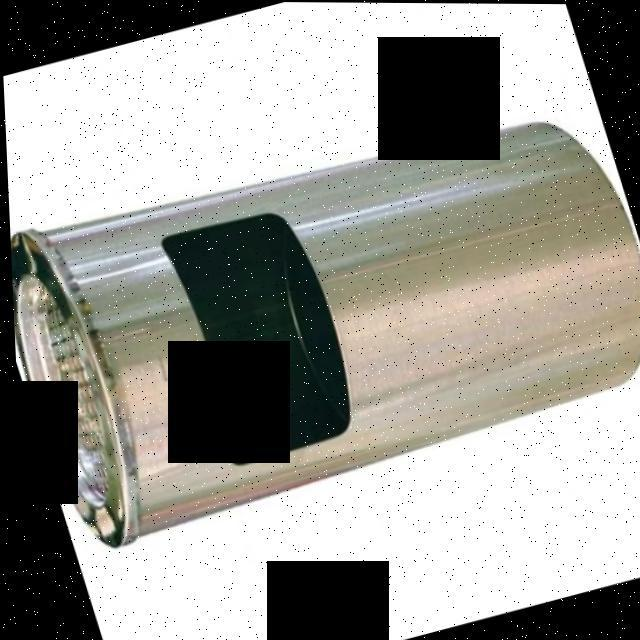bin: (2, 65, 640, 585)
